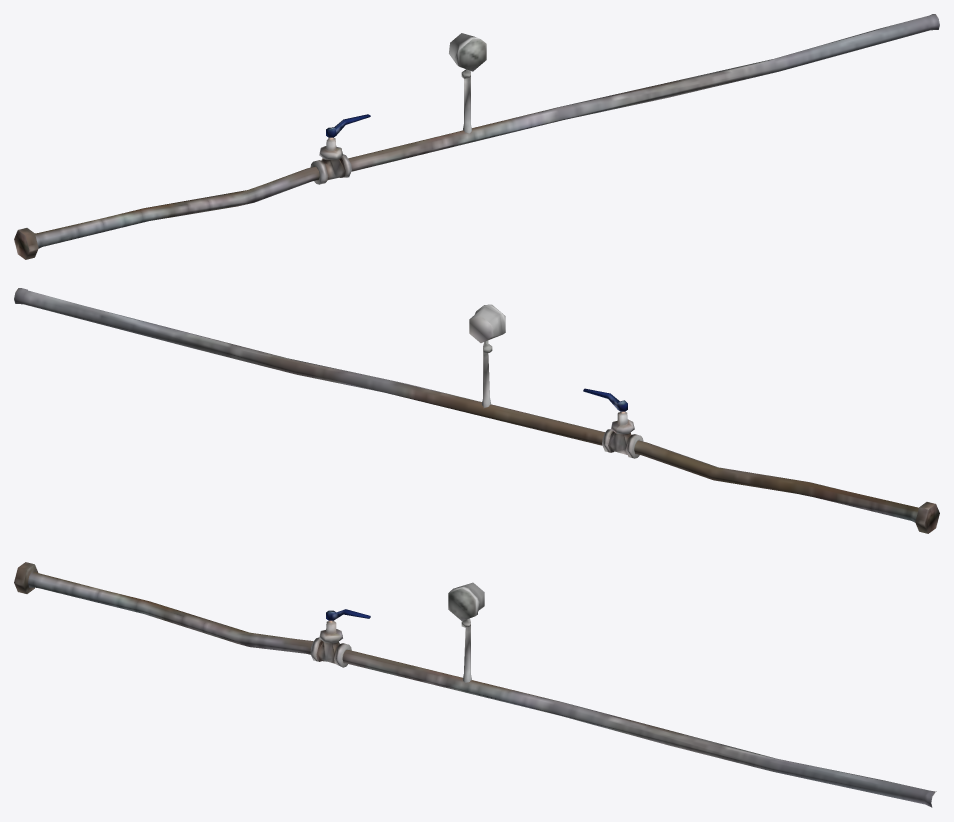
The model's file is pipe_b_300_c.glb.
The picture shows the model from 3 angles, top to bottom: view 1: azimuth 30°, elevation 25°; view 2: azimuth 150°, elevation 25°; view 3: azimuth 330°, elevation 25°; orthographic projection.
Parts seen in each view (by area): view 1: pipe_b_300_c; view 2: pipe_b_300_c; view 3: pipe_b_300_c.
Part boxes in pixels (x1,y1,x2,y2): pipe_b_300_c: (14, 14, 939, 259); pipe_b_300_c: (14, 288, 939, 533); pipe_b_300_c: (14, 562, 936, 807).
Size of the model in its own units: 3 by 0.3626 by 0.088.
1 material, 1 textured.
